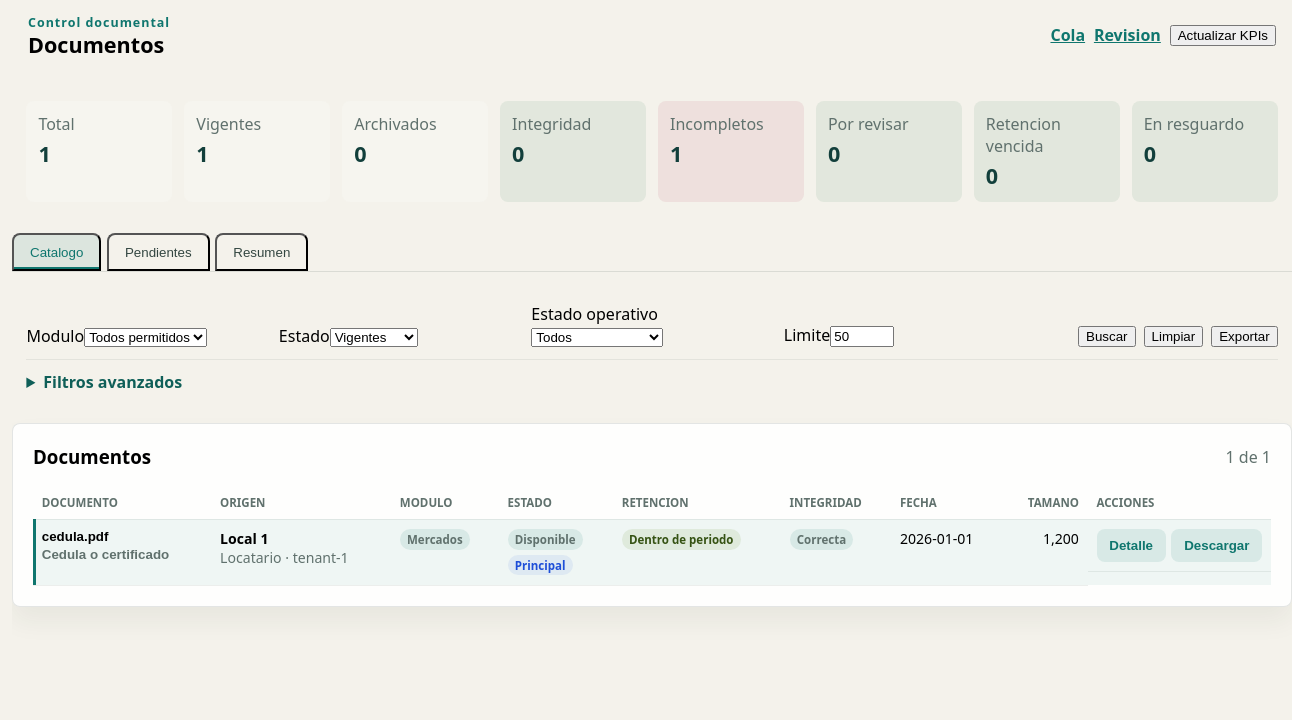
Test: DocumentsPageComponent › renders summary KPIs and secondary summary content
Click the button "Resumen" at (262, 252), box [215,233,308,271]
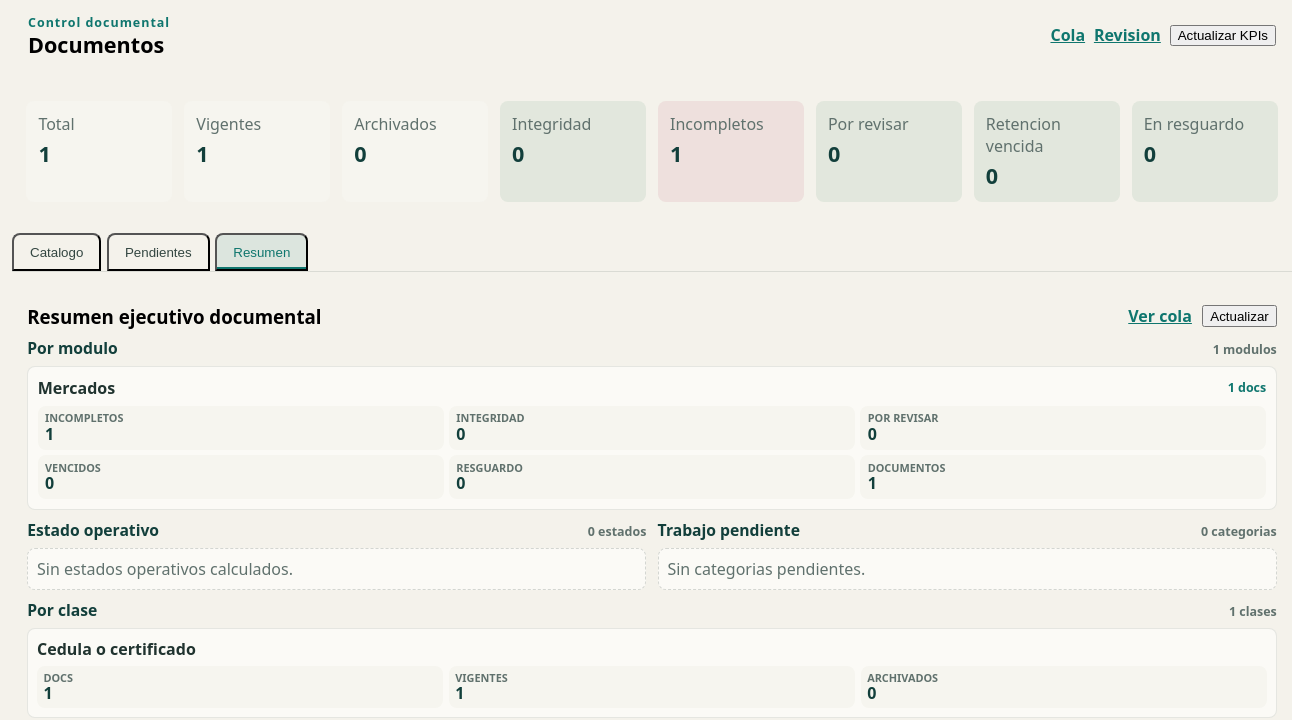
expect the text "Por modulo" is shown: met, box [27,339,118,358]
expect the text "Por clase" is shown: met, box [27,601,97,620]
